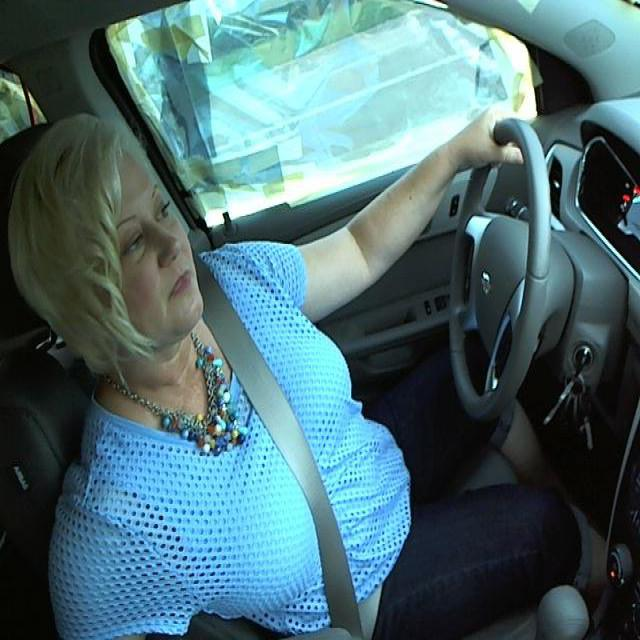seatbelt: (200, 312, 380, 629)
